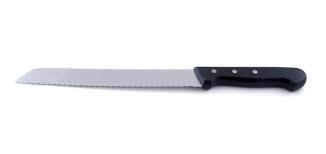Knife: (15, 65, 306, 91)
